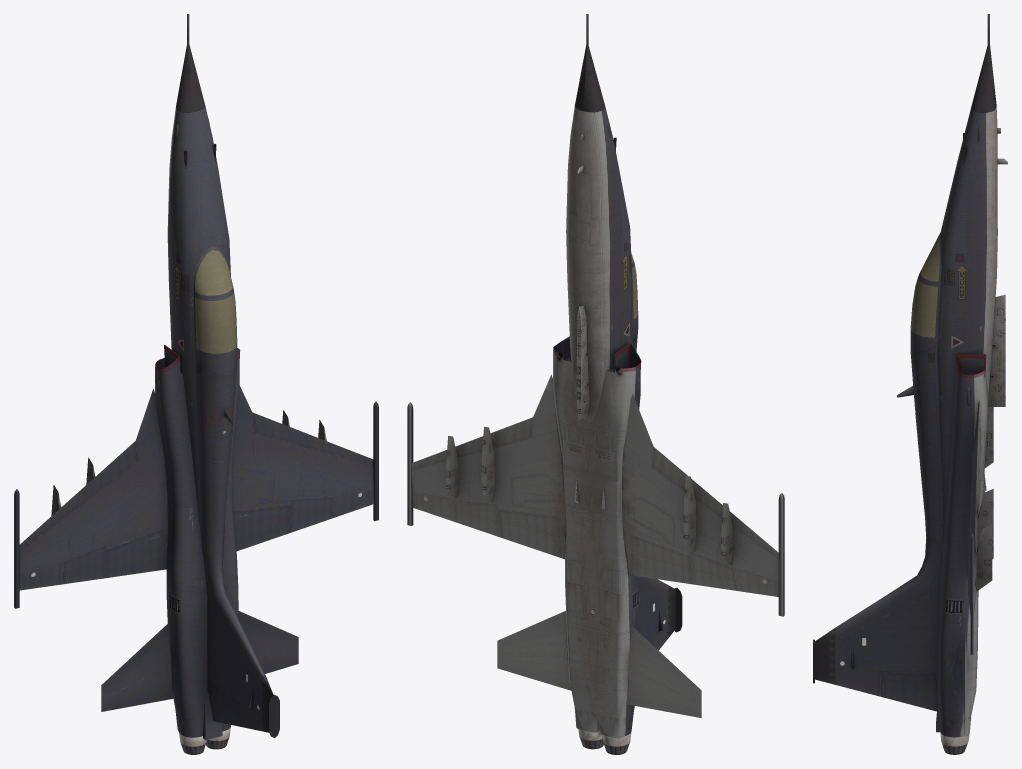
File: F-5E_Tiger_II.obj
3 renders of one model, left to right at view 1: azimuth 30°, elevation 25°; view 2: azimuth 150°, elevation 25°; view 3: azimuth 270°, elevation 25°, orthographic. The views are drawn at different scales.
Parts seen in each view (by area): view 1: LOD0, ElevatorL01, Glass_Canopy01, ElevatorR01, FlapL01, FlapR01, VoletL01, VoletR01, Glass01, AileronR01, AileronL01, Canopy01 (+1 smaller); view 2: LOD0, ElevatorL01, ElevatorR01, FlapR01, FlapL01, VoletL01, VoletR01, AileronR01, AileronL01; view 3: LOD0, RudderL01, Glass_Canopy01, Canopy01, VoletR01, Glass01.
Part boxes in pixels (left/top/right/bottom): LOD0: left=14, top=14, right=378, bottom=746; ElevatorL01: left=101, top=623, right=173, bottom=711; Glass_Canopy01: left=195, top=292, right=237, bottom=353; ElevatorR01: left=238, top=611, right=298, bottom=673; FlapL01: left=104, top=529, right=162, bottom=578; FlapR01: left=233, top=505, right=290, bottom=551; VoletL01: left=19, top=441, right=138, bottom=551; VoletR01: left=252, top=412, right=373, bottom=466; Glass01: left=195, top=250, right=233, bottom=295; AileronR01: left=289, top=495, right=333, bottom=532; AileronL01: left=61, top=545, right=105, bottom=584; Canopy01: left=189, top=289, right=237, bottom=374; LOD0: left=407, top=14, right=784, bottom=746; ElevatorL01: left=626, top=626, right=701, bottom=717; ElevatorR01: left=497, top=611, right=571, bottom=690; FlapR01: left=498, top=509, right=561, bottom=557; FlapL01: left=630, top=535, right=692, bottom=584; VoletL01: left=652, top=447, right=778, bottom=559; VoletR01: left=411, top=417, right=532, bottom=469; AileronR01: left=453, top=499, right=500, bottom=537; AileronL01: left=689, top=552, right=736, bottom=590; LOD0: left=813, top=14, right=1007, bottom=746; RudderL01: left=879, top=675, right=933, bottom=710; Glass_Canopy01: left=910, top=278, right=938, bottom=337; Canopy01: left=910, top=275, right=943, bottom=352; VoletR01: left=971, top=457, right=980, bottom=586; Glass01: left=920, top=235, right=939, bottom=281.
Size of the model in its own units: 7.8 by 14.79 by 3.57.
4 materials, 4 textured.
